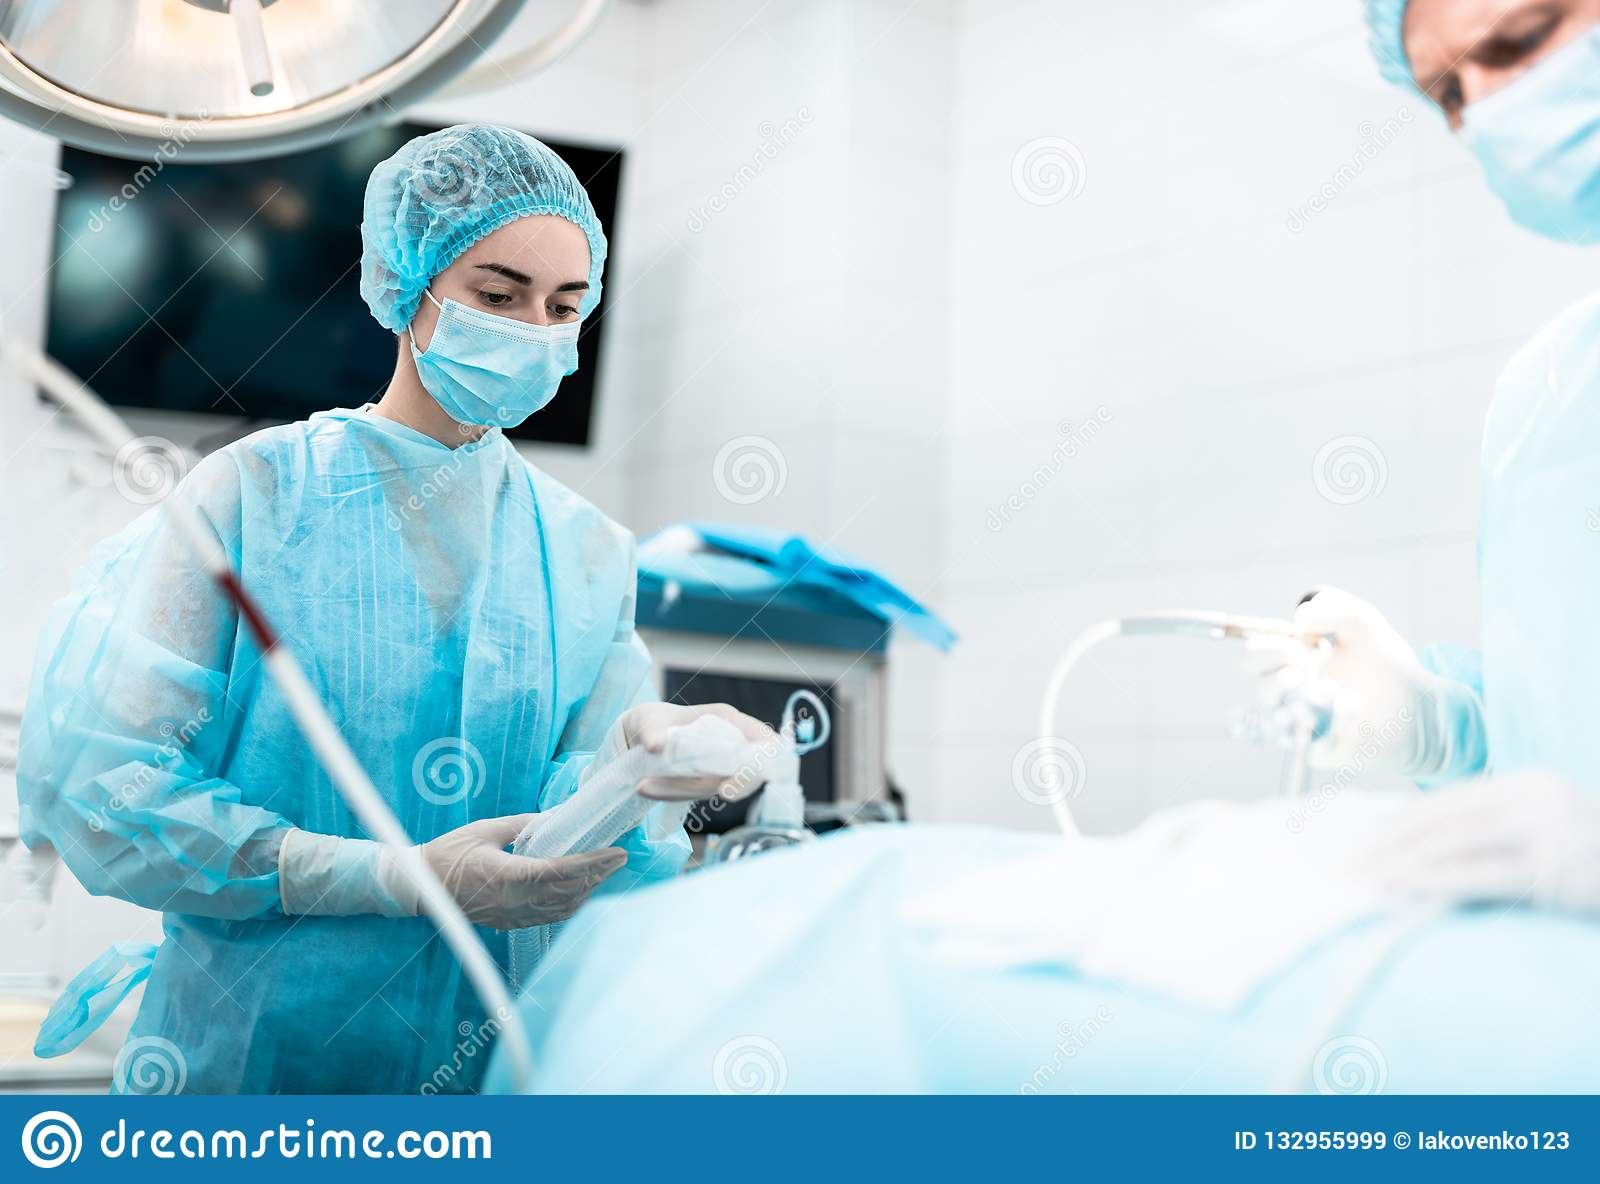mask: (411, 303, 592, 434)
